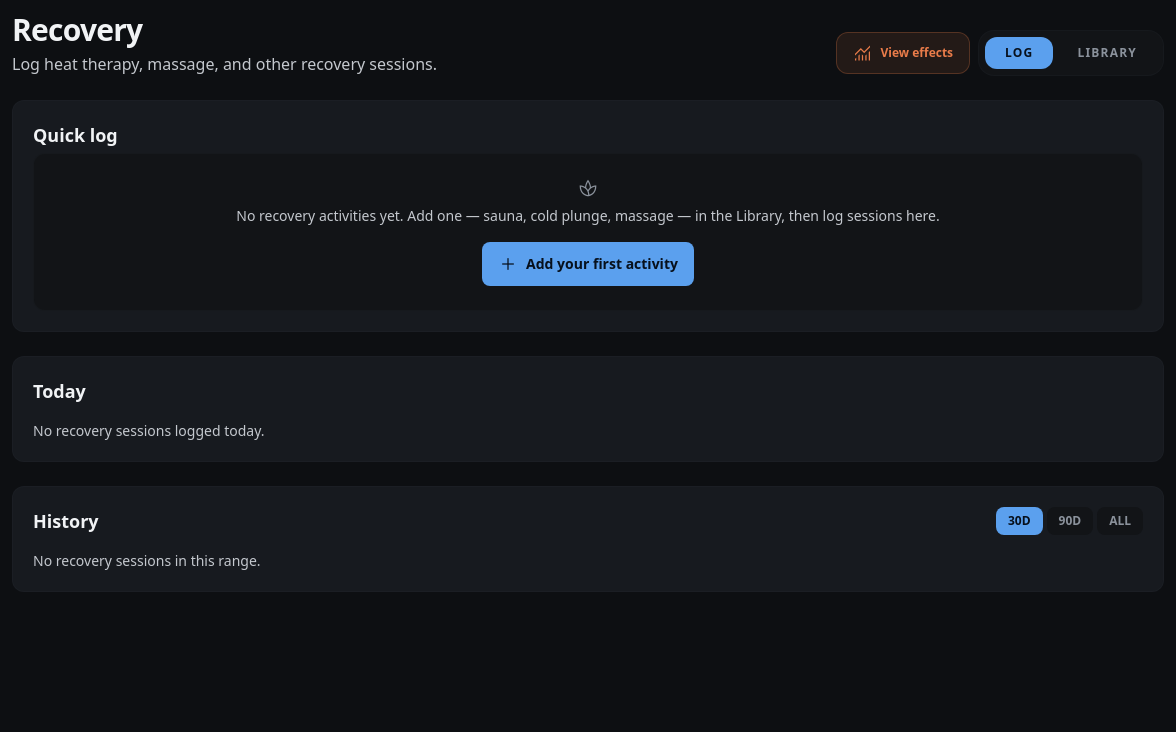
Recovery empty Quick log › offers a path to add the first activity instead of an empty grid
Click the button "Add your first activity": (588,264) [482,242,694,286]
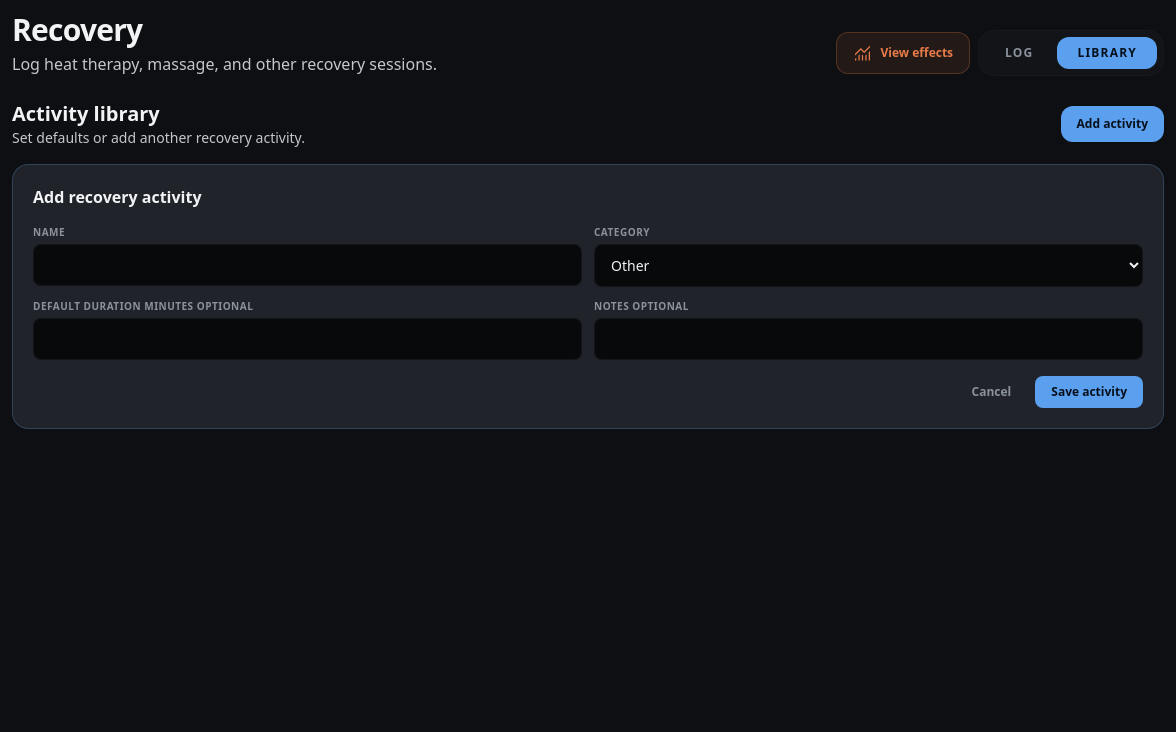
Now the heading "Add recovery activity" is shown, box [33,186,202,208]
Now the field named "Activity name" is shown, box [33,244,582,286]
